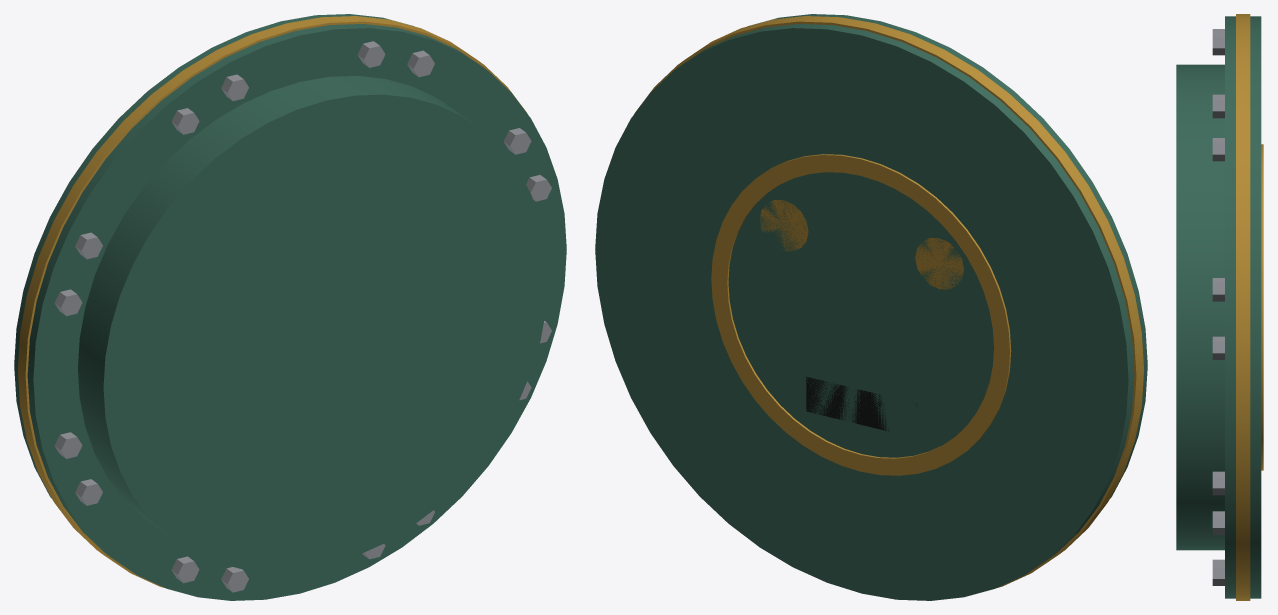
File: h12_flange.obj
The picture shows the model from 3 angles, left to right: view 1: azimuth 30°, elevation 25°; view 2: azimuth 150°, elevation 25°; view 3: azimuth 270°, elevation 25°; orthographic projection. The views are drawn at different scales.
Parts seen in each view (by area): view 1: h12_flange; view 2: h12_flange; view 3: h12_flange.
Part boxes in pixels (x1=…): h12_flange: x1=14, y1=14, x2=566, y2=600; h12_flange: x1=595, y1=14, x2=1147, y2=600; h12_flange: x1=1176, y1=14, x2=1263, y2=600.
Size of the model in its own units: 1.54 by 1.54 by 0.2283.
